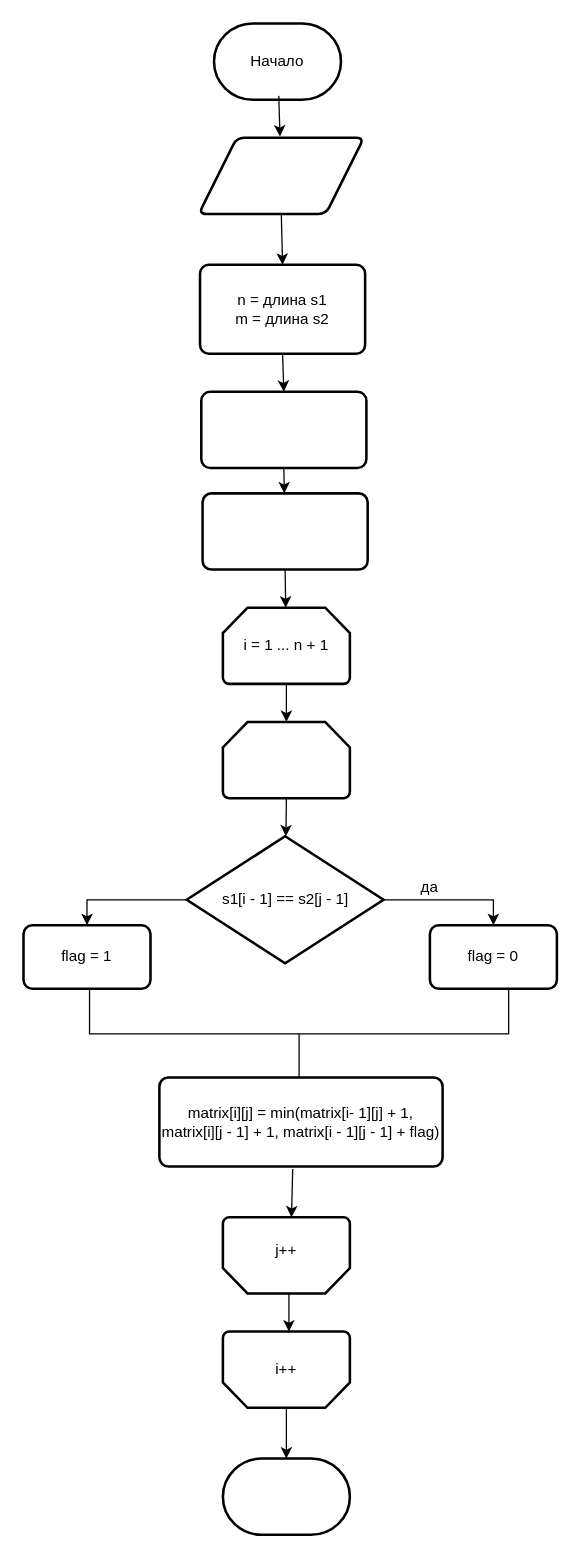
This 579x1557 diagram has some shape labels left out. The centre of each missing label's shape, as x and y in pixels:
j = 1 ... m + 1: (x=286, y=759)
Ввод s1, s2: (x=280, y=175)
Заполнение нулевой сторки и нулевого столбца матрицы: (x=284, y=530)
Конец: (x=286, y=1496)
Создание матрицы: (x=283, y=429)
